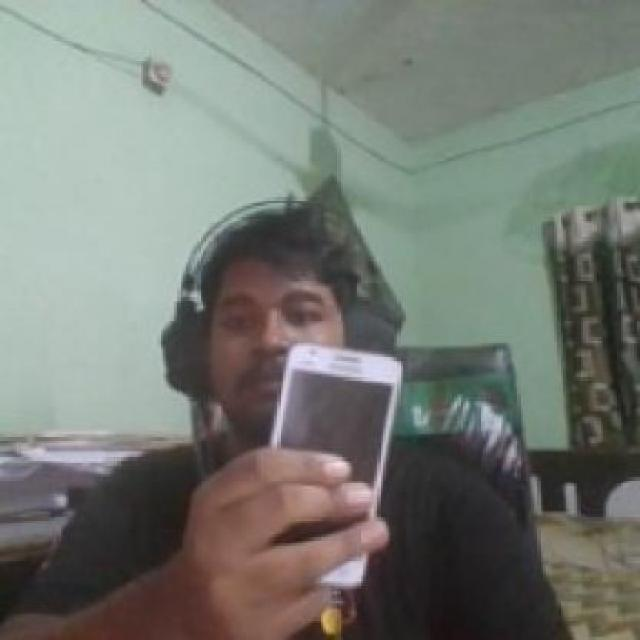Phone: (268, 340, 407, 597)
